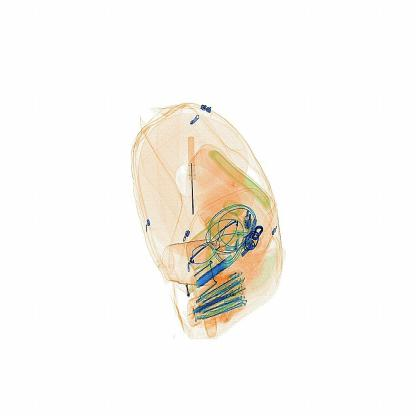wrench: (182, 122, 203, 218)
